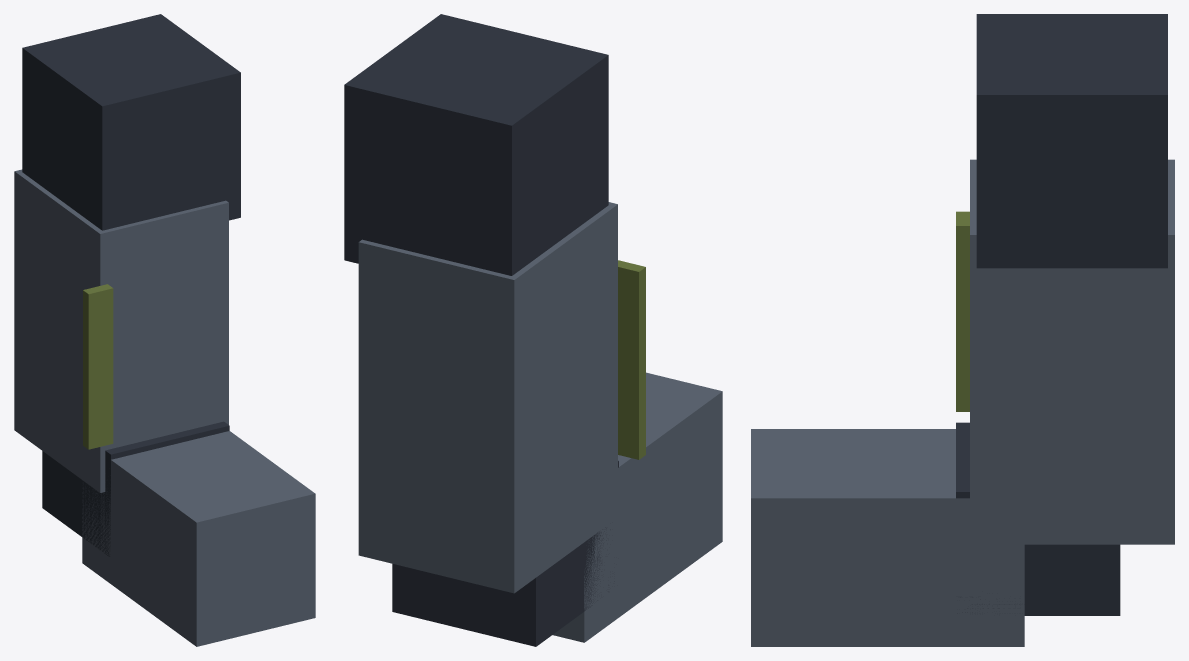
Rendered from tdf-mech-arm-l-a.glb.
3 views of the same model, side by side, from view 1: azimuth 30°, elevation 25°; view 2: azimuth 150°, elevation 25°; view 3: azimuth 270°, elevation 25° (orthographic). The views are drawn at different scales.
Parts seen in each view (by area): view 1: upper_arm, shoulder, forearm, elbow, stripe; view 2: upper_arm, shoulder, forearm, elbow, stripe; view 3: upper_arm, forearm, shoulder, elbow, stripe.
Part boxes in pixels (bbox=[...]): upper_arm: bbox=[14, 169, 228, 492]; shoulder: bbox=[22, 14, 240, 230]; forearm: bbox=[82, 431, 315, 646]; elbow: bbox=[42, 421, 229, 556]; stripe: bbox=[83, 284, 113, 449]; upper_arm: bbox=[358, 202, 617, 593]; shoulder: bbox=[344, 14, 608, 275]; forearm: bbox=[553, 372, 722, 642]; elbow: bbox=[392, 460, 618, 646]; stripe: bbox=[618, 260, 645, 459]; upper_arm: bbox=[970, 159, 1174, 544]; forearm: bbox=[751, 429, 1024, 646]; shoulder: bbox=[976, 14, 1167, 268]; elbow: bbox=[956, 422, 1120, 615]; stripe: bbox=[956, 211, 969, 411].
Size of the model in its own units: 0.325 by 0.91 by 0.62.
